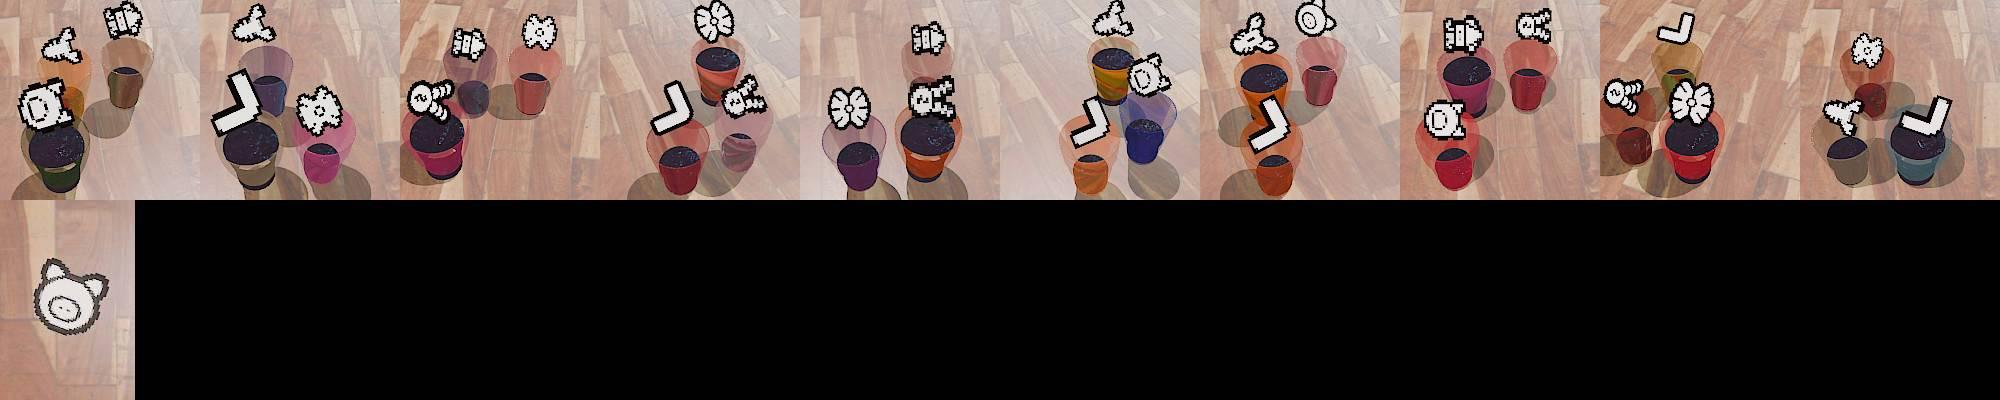icon: (32, 255, 111, 336), (210, 66, 268, 136), (15, 79, 70, 132), (1246, 93, 1293, 153), (295, 83, 346, 135), (649, 78, 695, 135), (1122, 52, 1173, 101), (1898, 93, 1953, 136), (907, 73, 958, 118), (407, 76, 457, 122), (1070, 94, 1112, 148), (1668, 78, 1714, 126), (721, 71, 767, 118), (1230, 11, 1276, 57), (827, 84, 871, 131), (1422, 98, 1467, 141), (1441, 14, 1485, 57), (693, 0, 736, 43), (231, 4, 276, 43), (1821, 97, 1862, 139), (41, 25, 83, 65), (1605, 76, 1645, 116), (103, 1, 145, 39), (1295, 0, 1337, 38), (1092, 0, 1133, 37), (909, 19, 949, 56), (1514, 8, 1554, 45), (1656, 10, 1696, 46), (520, 14, 557, 52), (450, 27, 487, 61), (1849, 33, 1884, 69)
